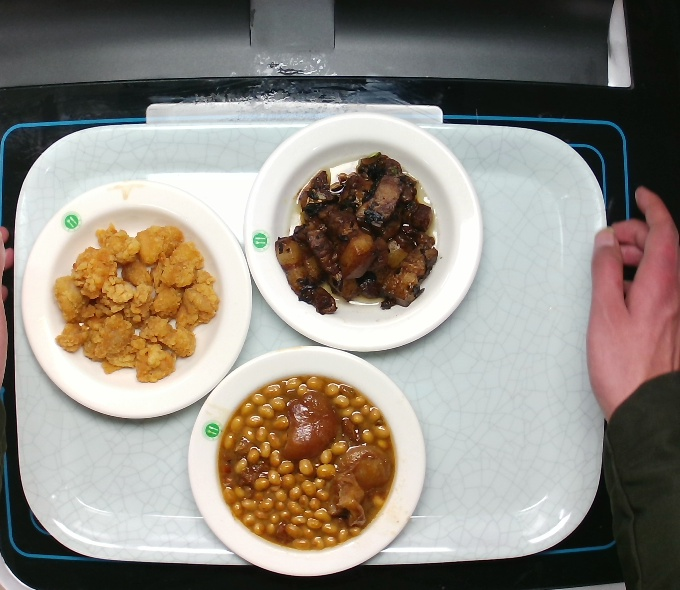wcq-GanCaiRou: (271, 148, 442, 320)
wcq-HuangDouZhuJiao: (213, 371, 402, 554)
wcq-JiMiHua: (47, 218, 226, 387)
